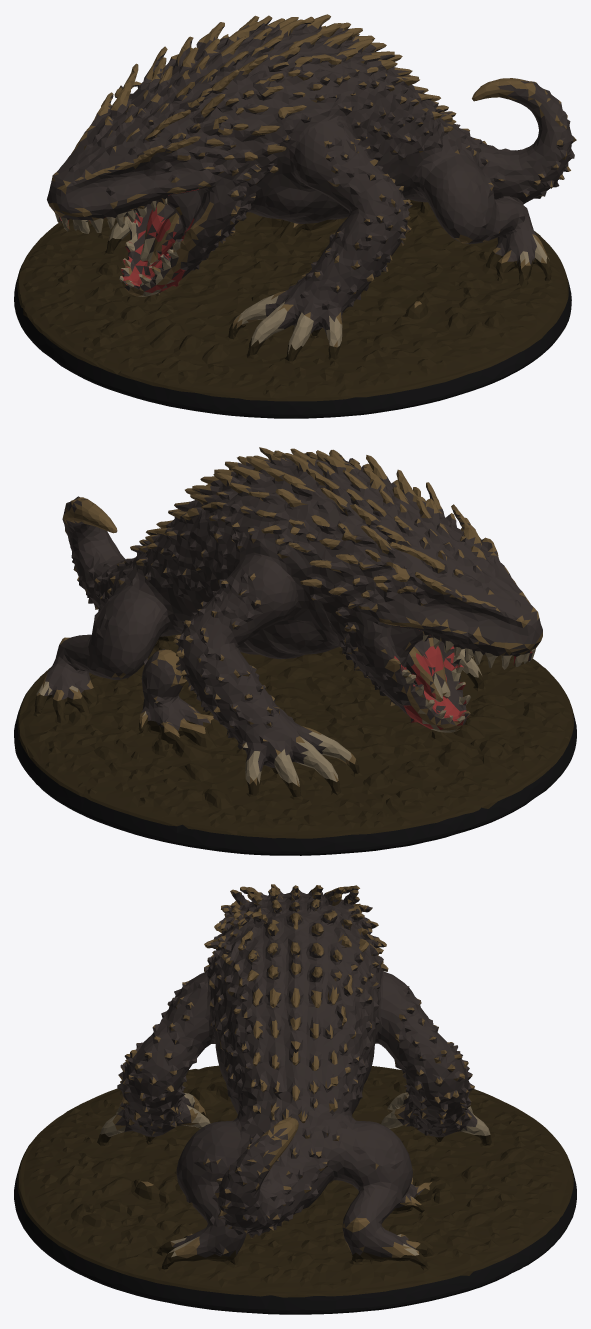
The model's file is tirano_da_mata.glb.
The picture shows the model from 3 angles, top to bottom: view 1: azimuth 30°, elevation 25°; view 2: azimuth 150°, elevation 25°; view 3: azimuth 270°, elevation 25°; orthographic projection.
Visible parts, largest first — view 1: tmp3biixfgf.ply; view 2: tmp3biixfgf.ply; view 3: tmp3biixfgf.ply.
Boxes of the visible parts, x1,y1,x2,y2 form: tmp3biixfgf.ply: [14, 14, 576, 418]; tmp3biixfgf.ply: [14, 447, 576, 855]; tmp3biixfgf.ply: [14, 884, 576, 1314].
Bounding box in the file's own units: 1.97 × 1.08 × 1.92.
